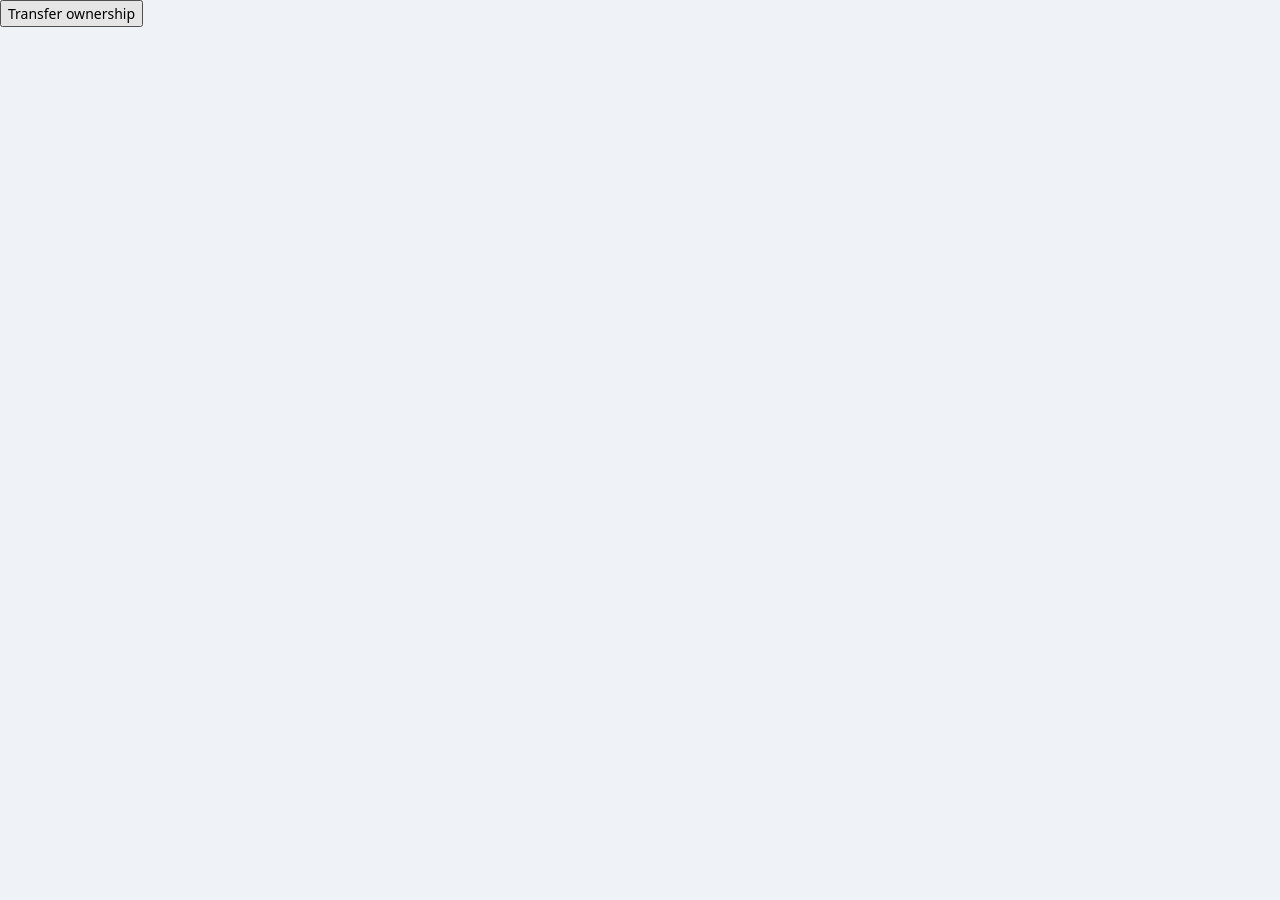
it: sends a request without transferring immediately or deleting the account
Click the button "Transfer ownership" at (72, 14), box [0,0,143,27]
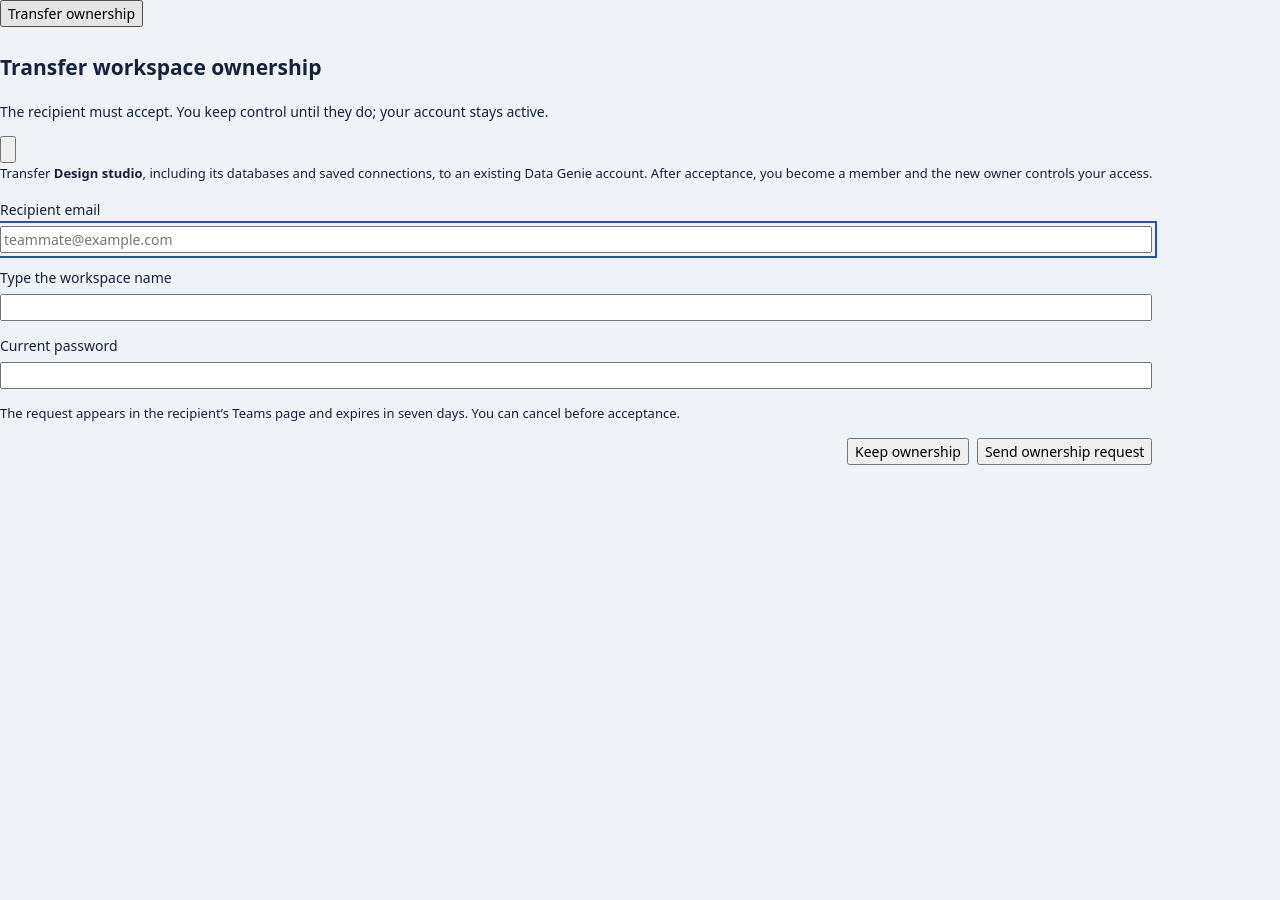
Type "jo@example.test" into the field labelled "Recipient email" at (576, 239), box [0,226,1152,253]
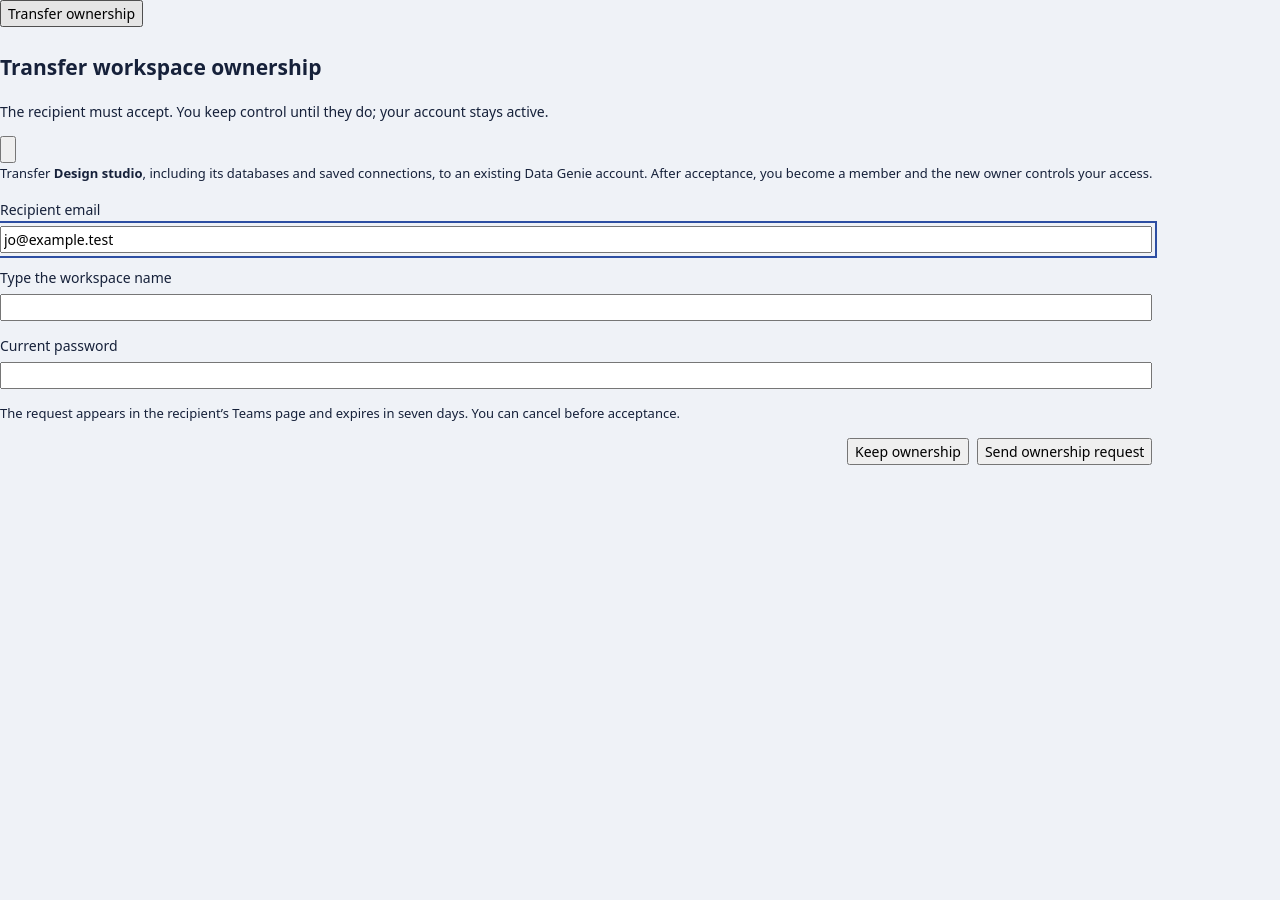
Type "Design studio" into the field labelled "Type the workspace name" at (576, 307), box [0,294,1152,321]
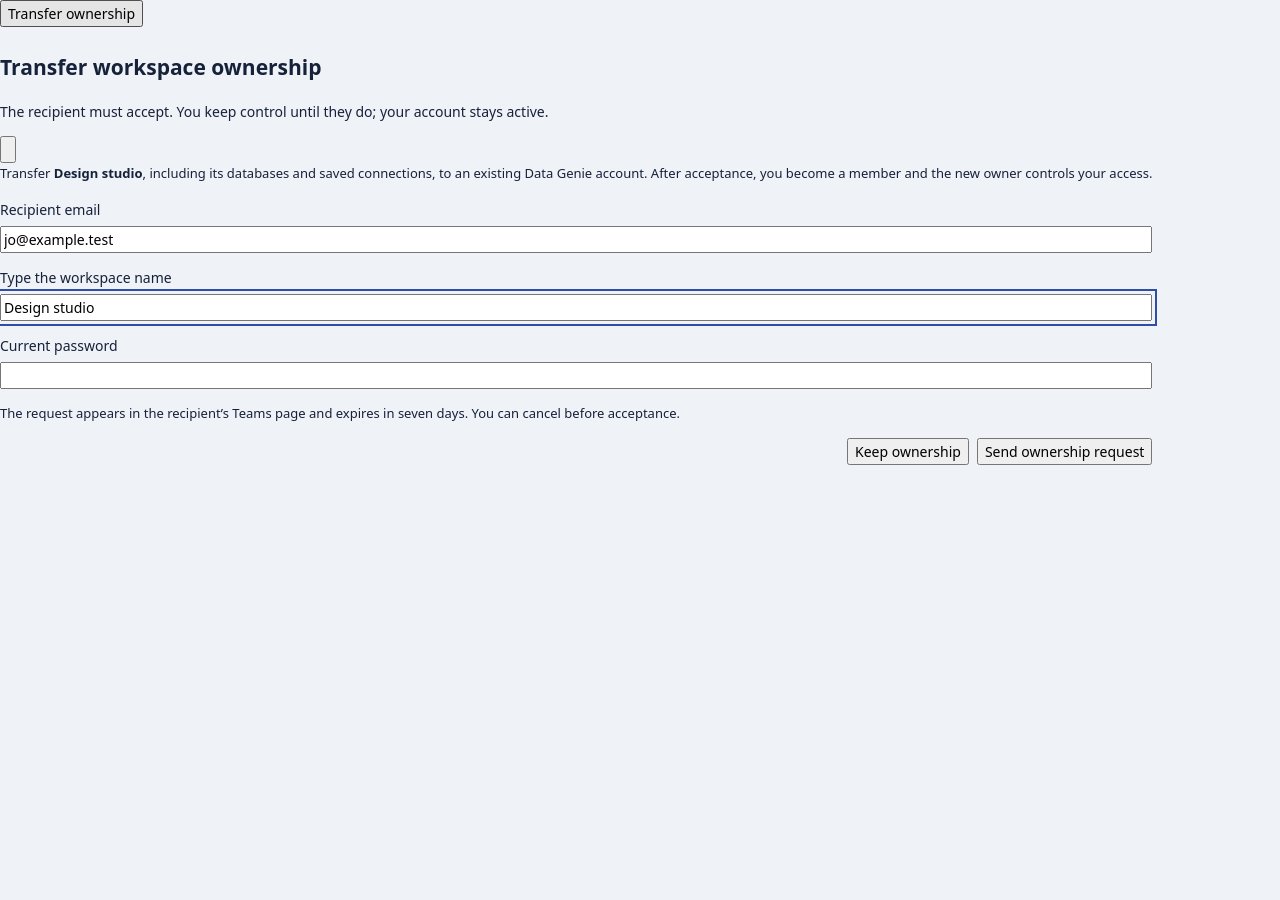
Type "fixture-only passphrase" into the password field labelled "Current password" at (576, 375), box [0,362,1152,389]
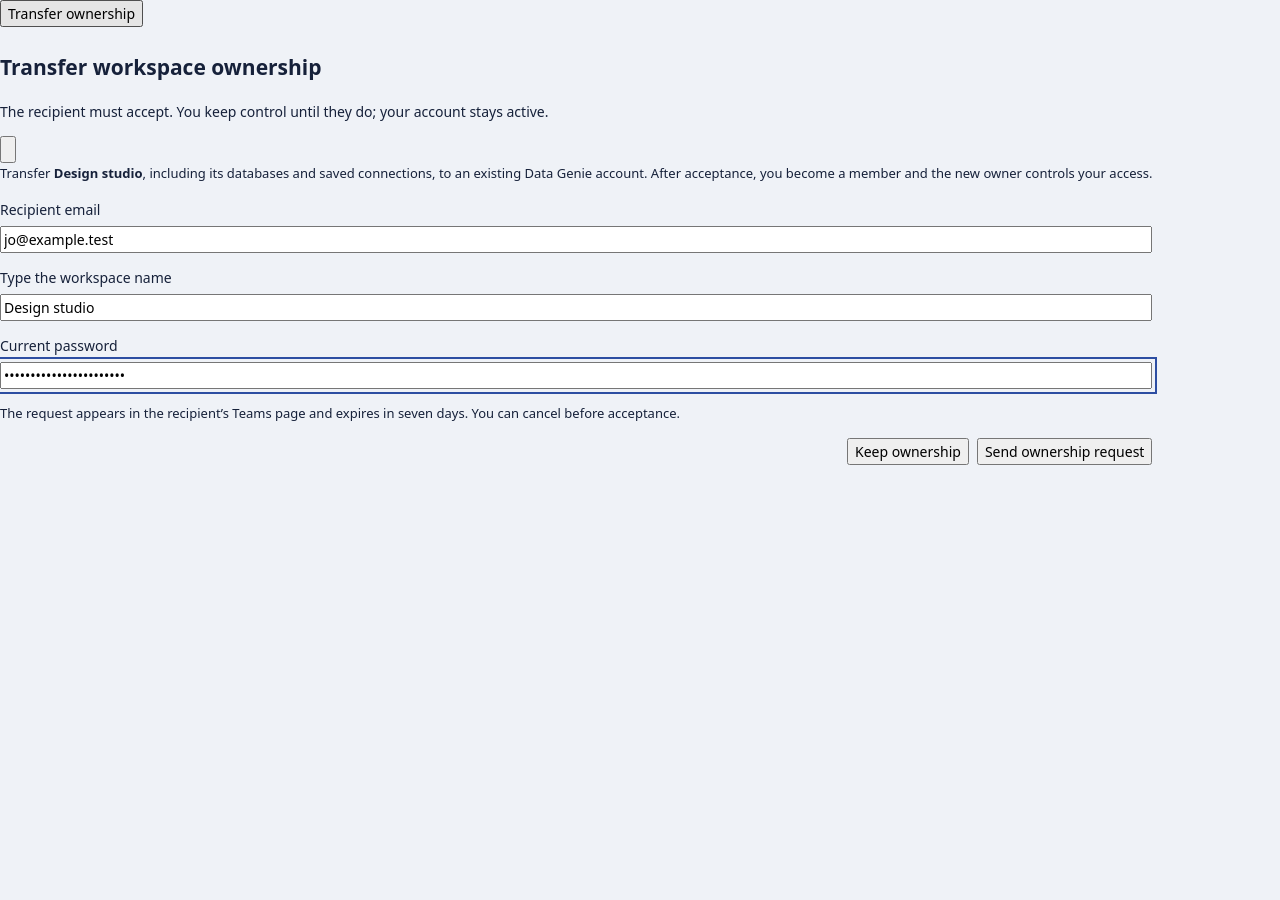
Click the button "Send ownership request" at (1065, 452), box [977,438,1152,465]
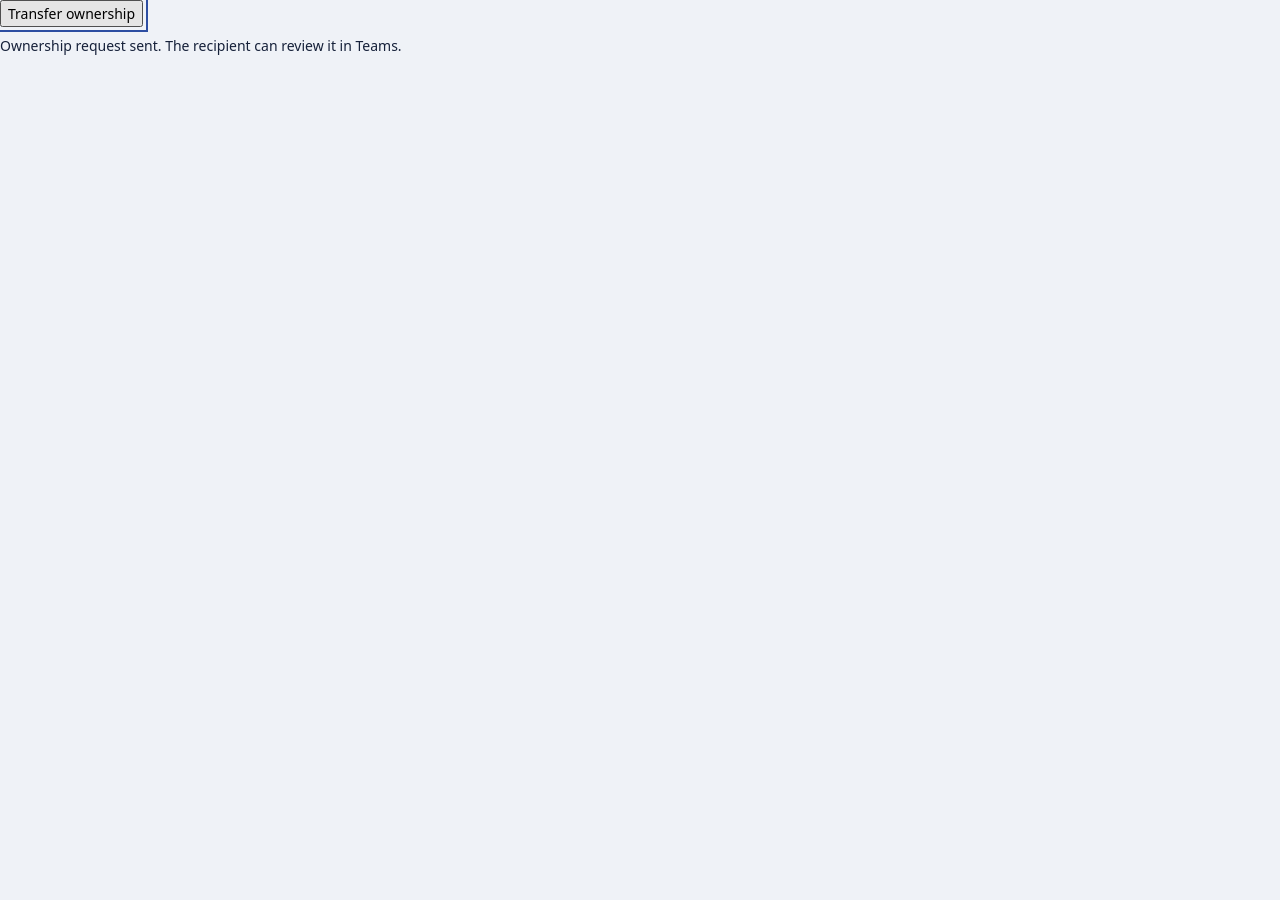
Check: the text "Ownership request sent. The recipient can review it in Teams." is shown, box [0,36,402,55]
